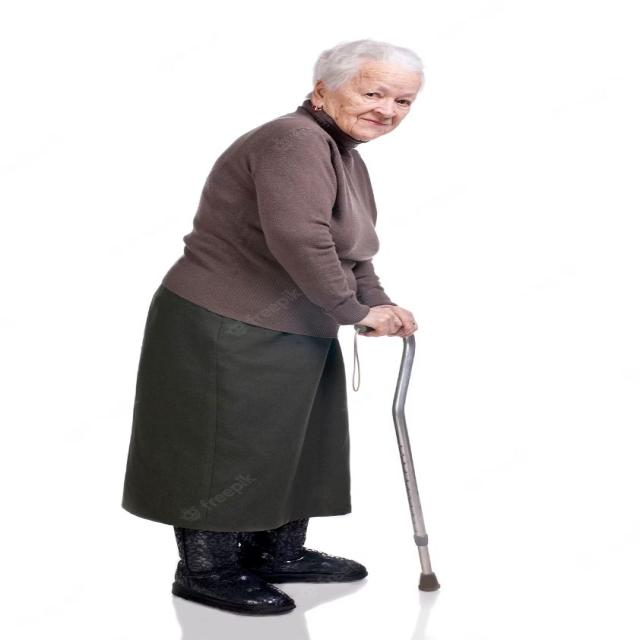idoso em pe: (131, 41, 444, 618)
